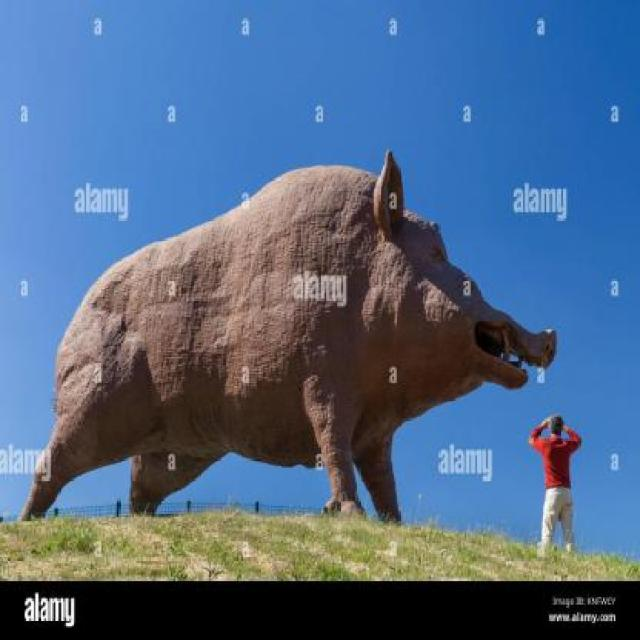wildboar: (10, 149, 564, 528)
